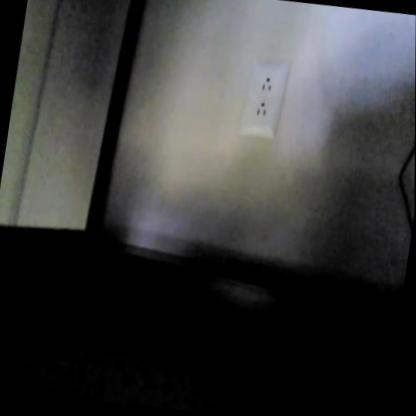OUTLET: (241, 56, 289, 139)
